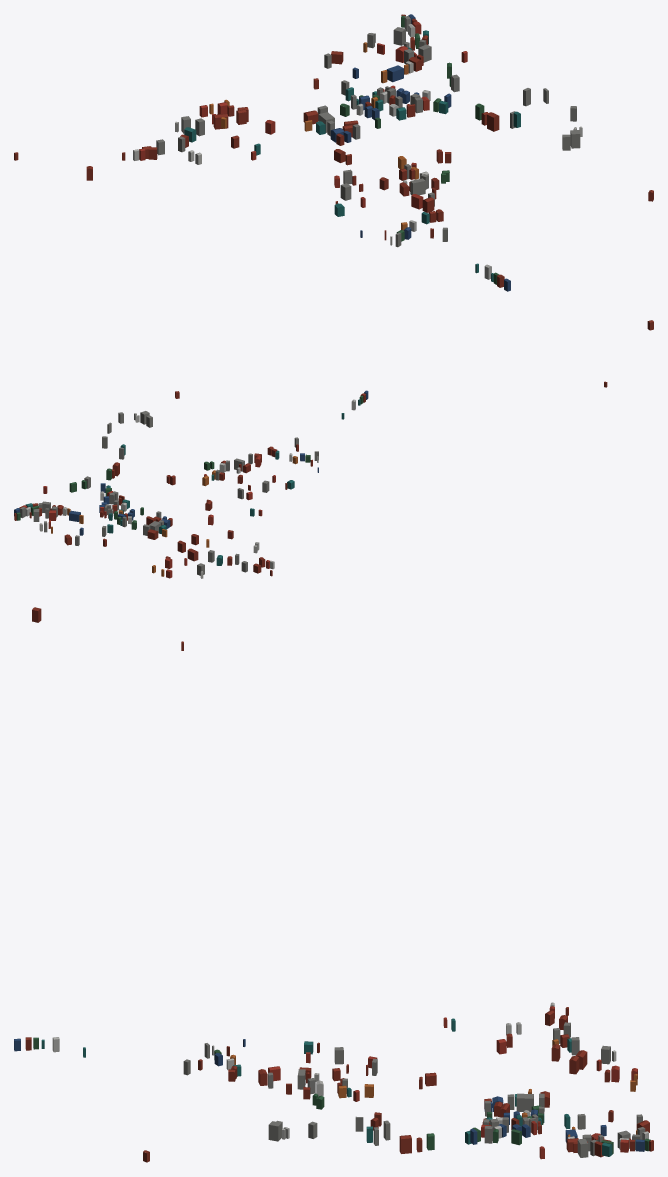
The model's file is near-15-27352-14867.581455c8.glb.
3 views of the same model, one above another, from view 1: azimuth 30°, elevation 25°; view 2: azimuth 150°, elevation 25°; view 3: azimuth 270°, elevation 25° (orthographic). The views are drawn at different scales.
Size of the model in its own units: 1173 by 451 by 979.
